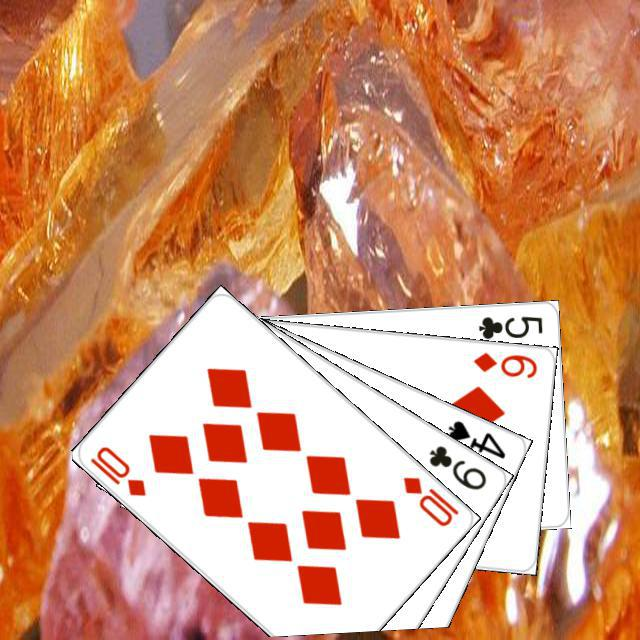10d: (398, 471, 461, 529), (85, 441, 148, 498)
4s: (443, 415, 507, 461)
5c: (473, 311, 545, 341)
6d: (468, 347, 539, 380)
9c: (424, 440, 489, 492)
